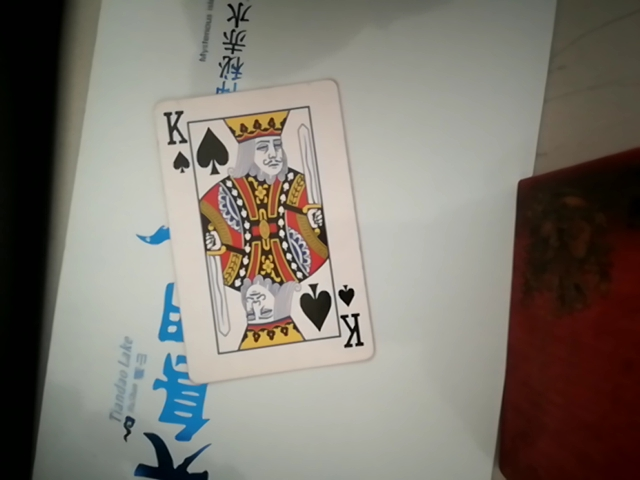ht k: (161, 74, 380, 397)
